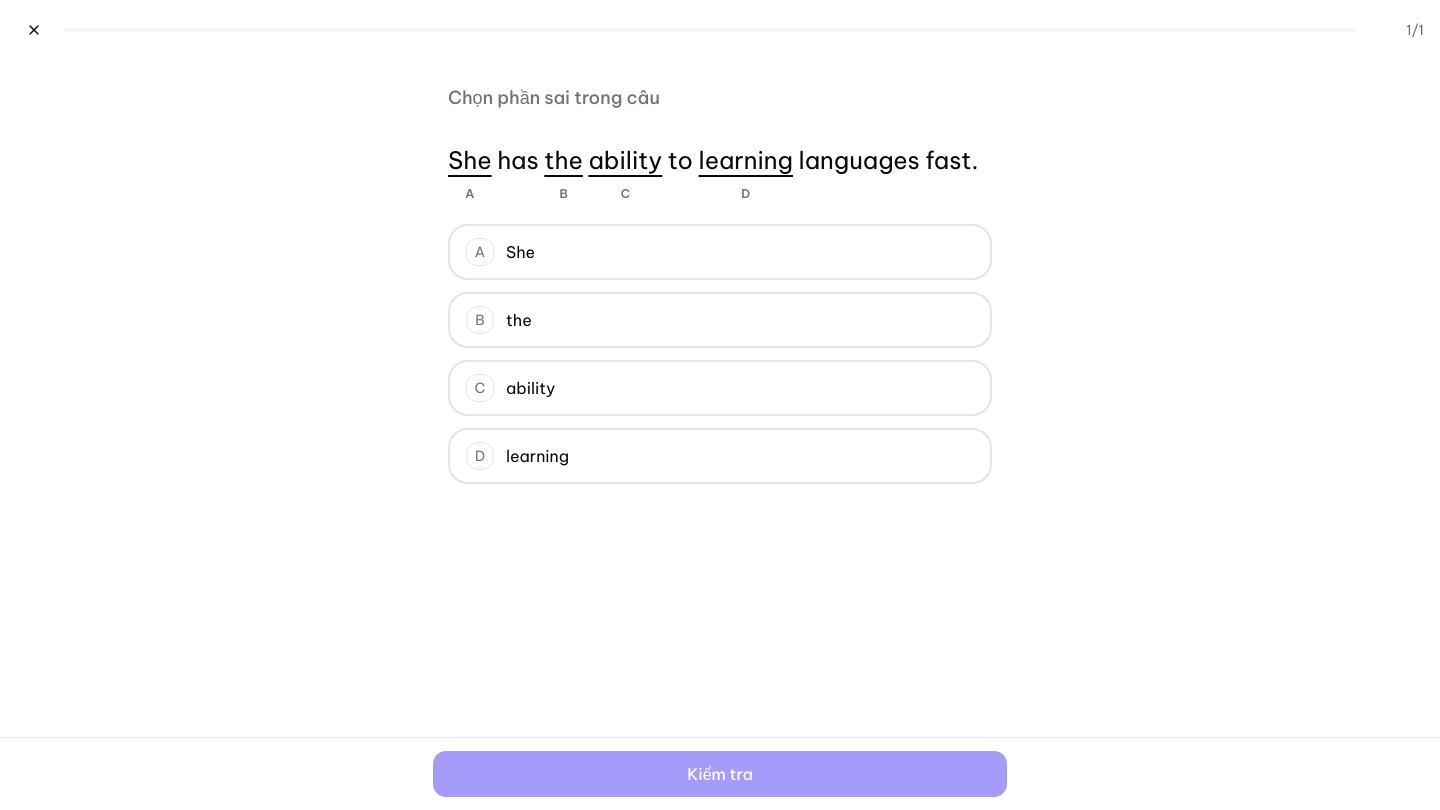
Scenario: find the error (feature 011) › says which part was picked and which was wrong after a wrong pick (AC-007, AC-008)
Click the radio button labelled "A She". click: (480, 252)
box: top-left (448, 224), bottom-right (992, 280)
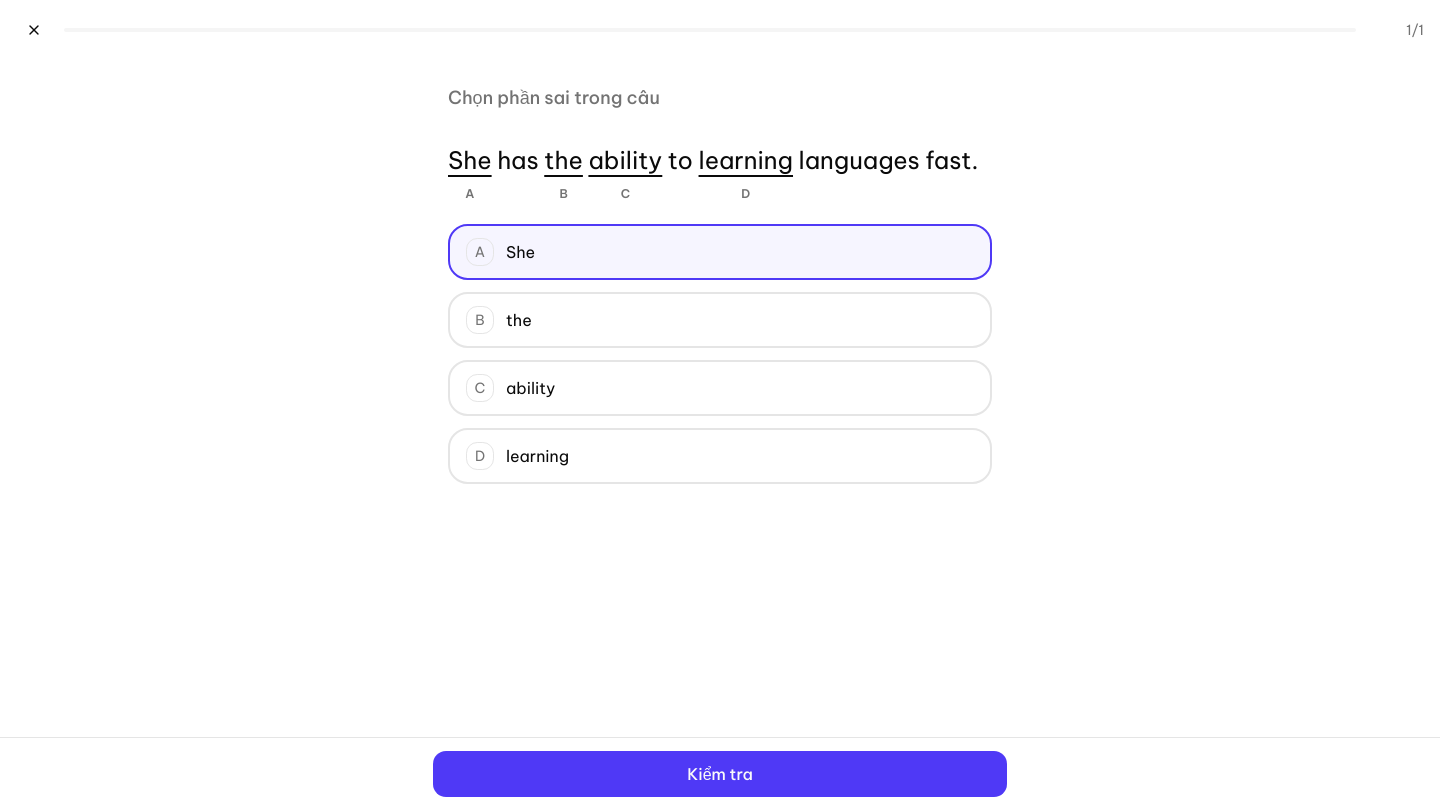
Click the button "Kiểm tra". click: (720, 774)
box: top-left (432, 750), bottom-right (1008, 798)
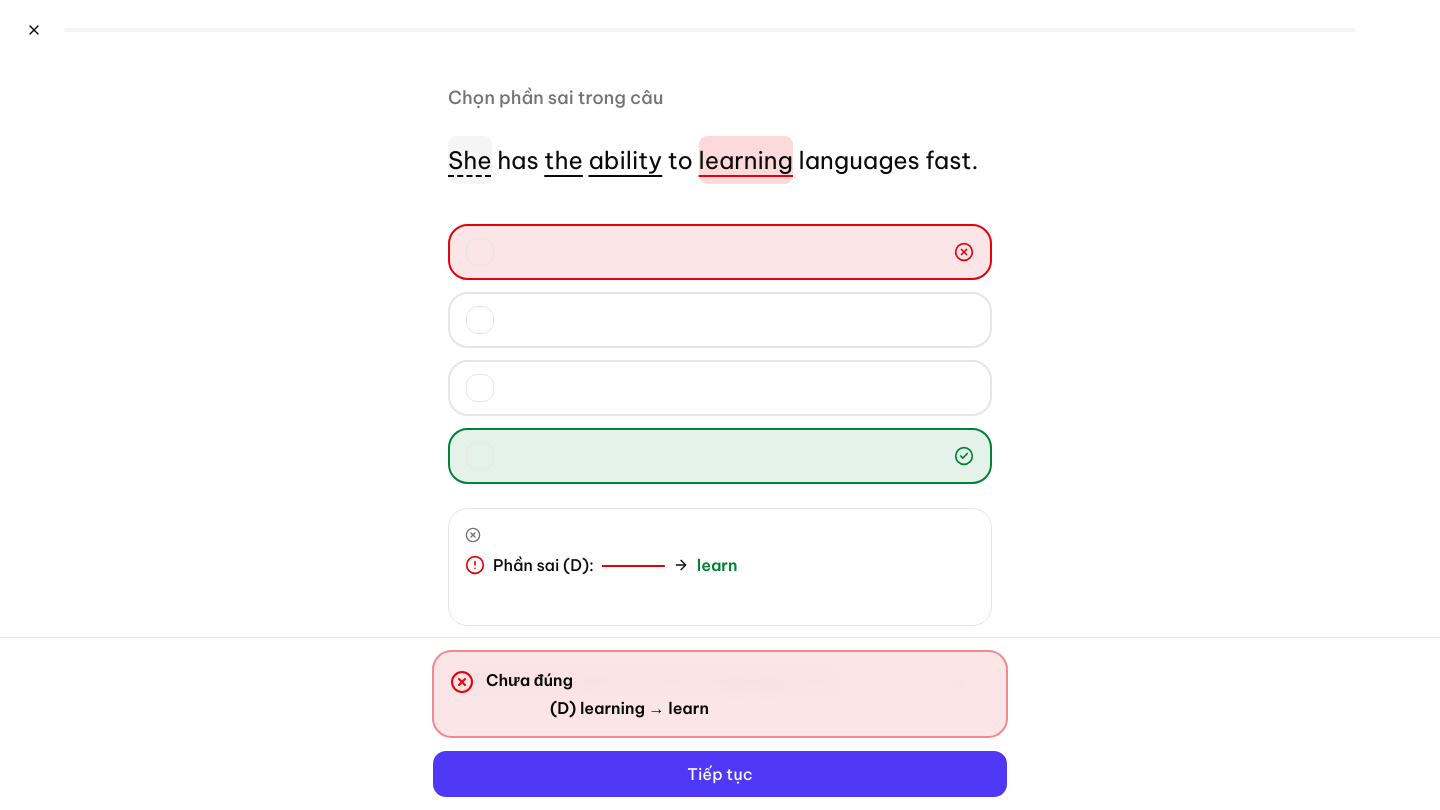
Result: the text "Chưa đúng" is shown at top-left (486, 670), bottom-right (573, 690)
